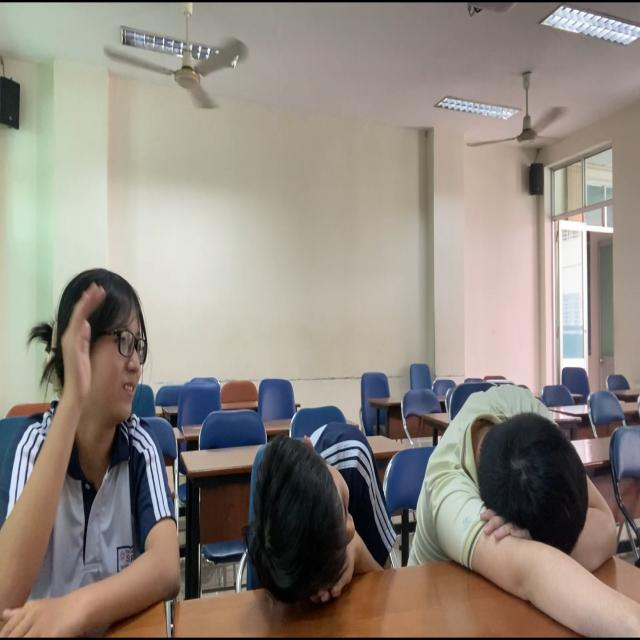raise_hand: (1, 267, 179, 640)
sleep: (426, 382, 640, 640), (243, 417, 429, 627)
